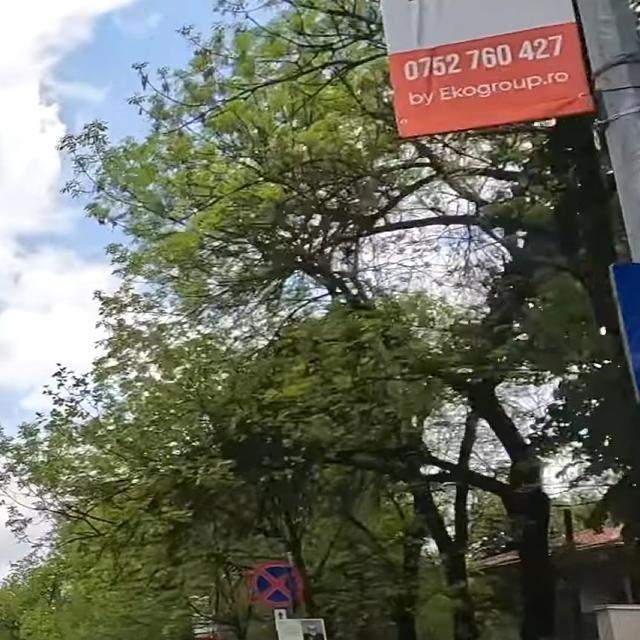forb_waiting: (252, 559, 298, 608)
